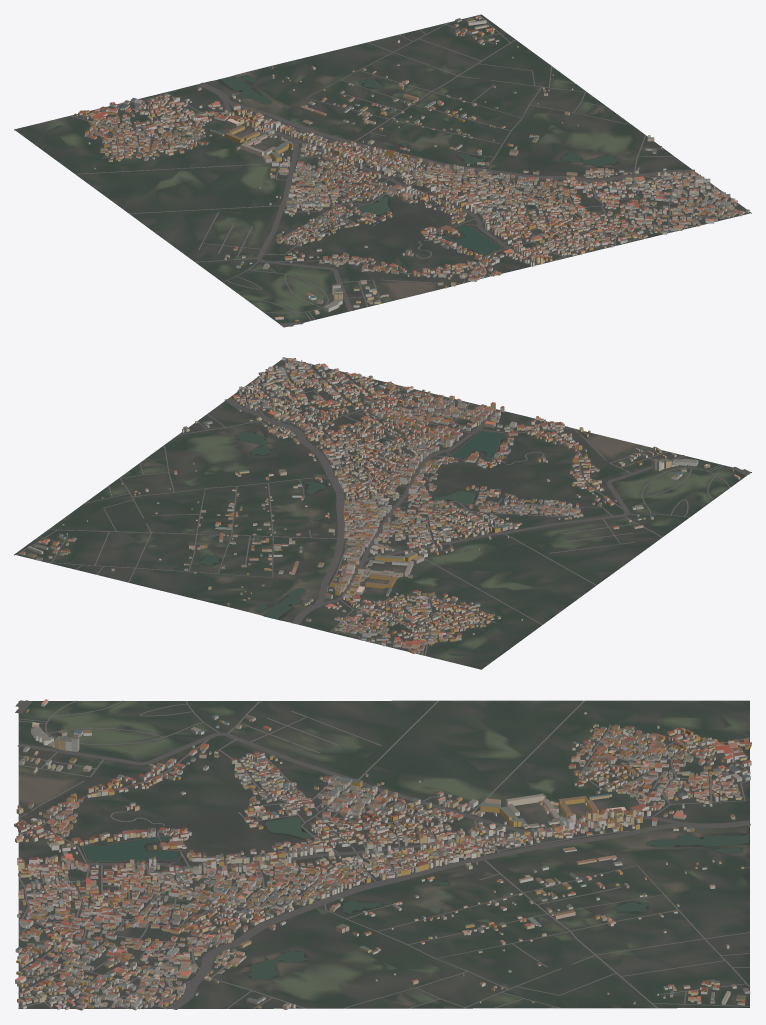
3 renders of one model, top to bottom at view 1: azimuth 30°, elevation 25°; view 2: azimuth 150°, elevation 25°; view 3: azimuth 270°, elevation 25°, orthographic. The views are drawn at different scales.
Visible parts, largest first — view 1: ground, buildings, roads, water; view 2: ground, buildings, roads, water; view 3: ground, buildings, roads, water.
Part boxes in pixels (x1=…): ground: x1=14, y1=14, x2=751, y2=327; buildings: x1=74, y1=15, x2=749, y2=321; roads: x1=70, y1=15, x2=751, y2=326; water: x1=217, y1=75, x2=619, y2=254; ground: x1=14, y1=358, x2=751, y2=669; buildings: x1=19, y1=357, x2=740, y2=654; roads: x1=16, y1=358, x2=751, y2=655; water: x1=200, y1=431, x2=505, y2=619; ground: x1=18, y1=700, x2=749, y2=1008; buildings: x1=14, y1=699, x2=751, y2=1010; roads: x1=15, y1=700, x2=750, y2=1009; water: x1=84, y1=817, x2=749, y2=978.
Size of the model in its own units: 1409 by 29.57 by 1415.
